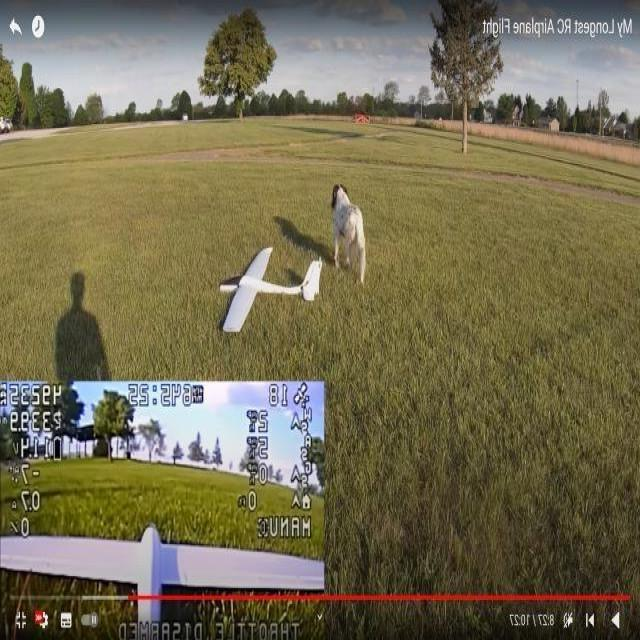Airplane: (0, 523, 322, 612), (216, 235, 330, 340)
